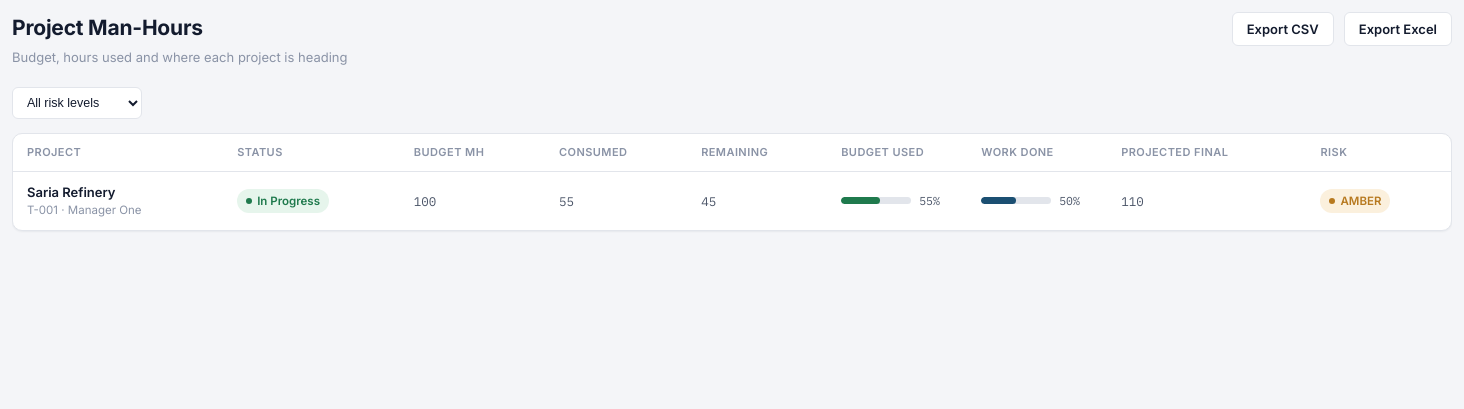
Test: man-hours additions › leaves out the category box when the server sends no categories (they are not open yet)
This screenshot has width=1464, height=409.
Click the text "Saria Refinery" at (71, 192), box x1=27 y1=184 x2=116 y2=200
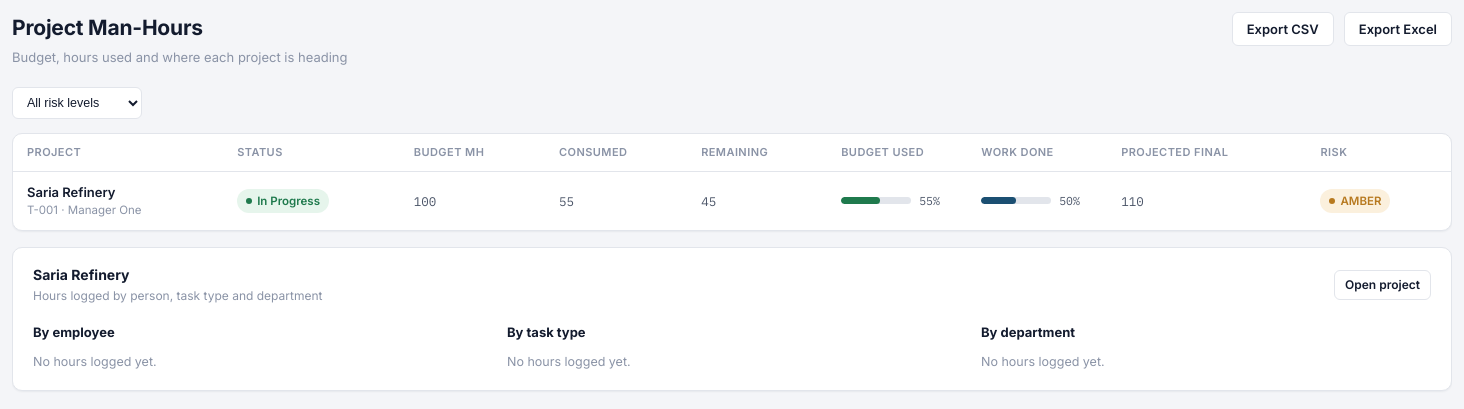
Result: the text "By department" is shown at x1=981 y1=324 x2=1075 y2=340
